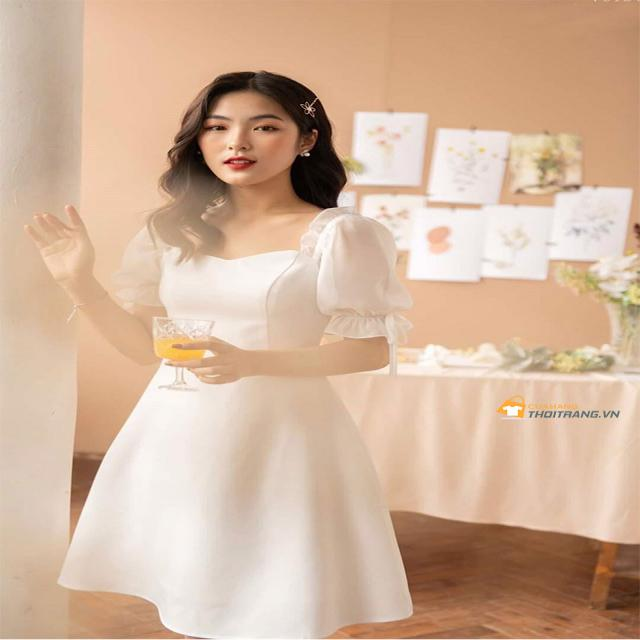clothes: (53, 191, 429, 639)
